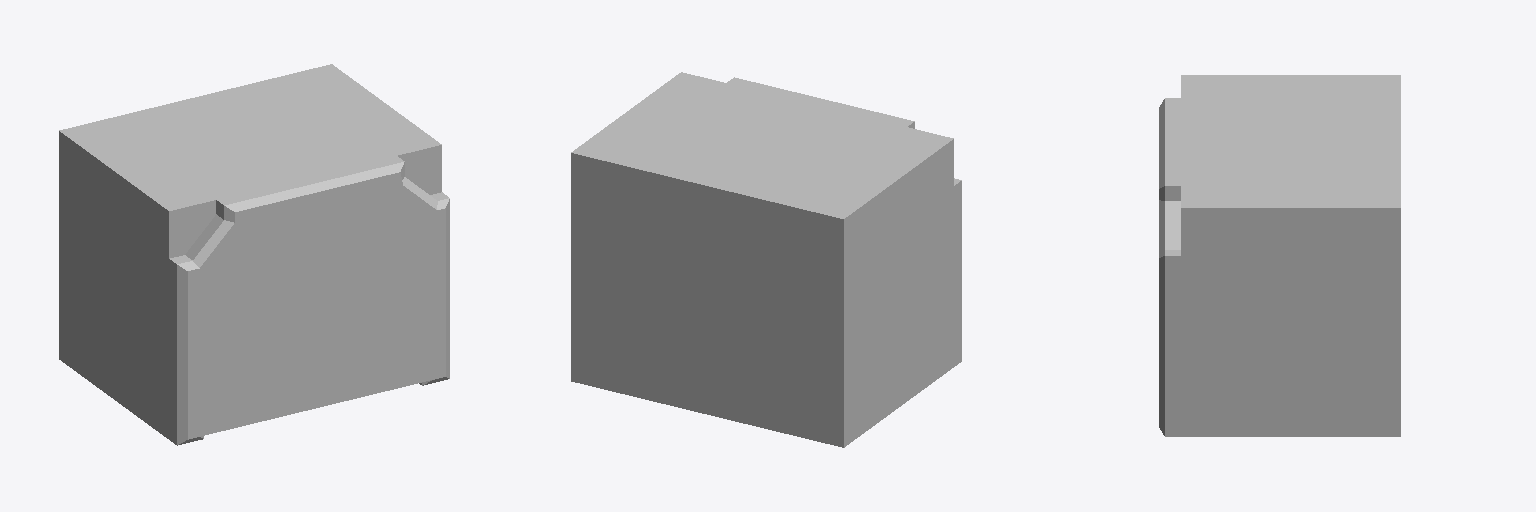
The model's file is buildingnsei1.obj.
3 views of the same model, side by side, from view 1: azimuth 30°, elevation 25°; view 2: azimuth 150°, elevation 25°; view 3: azimuth 270°, elevation 25° (orthographic).
Parts seen in each view (by area): view 1: Cube; view 2: Cube; view 3: Cube.
Part boxes in pixels (bbox=[...]): Cube: bbox=[59, 64, 449, 445]; Cube: bbox=[571, 72, 961, 447]; Cube: bbox=[1159, 75, 1400, 436].
Size of the model in its own units: 10 by 8 by 7.7.